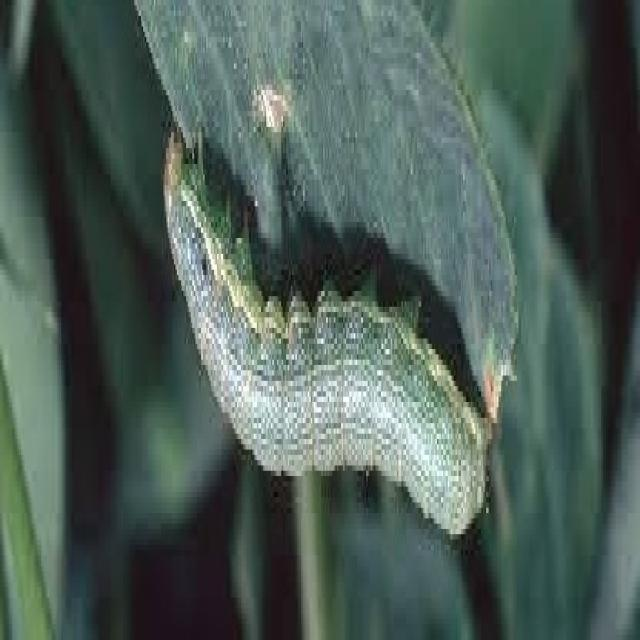armyworm: (160, 116, 498, 534)
